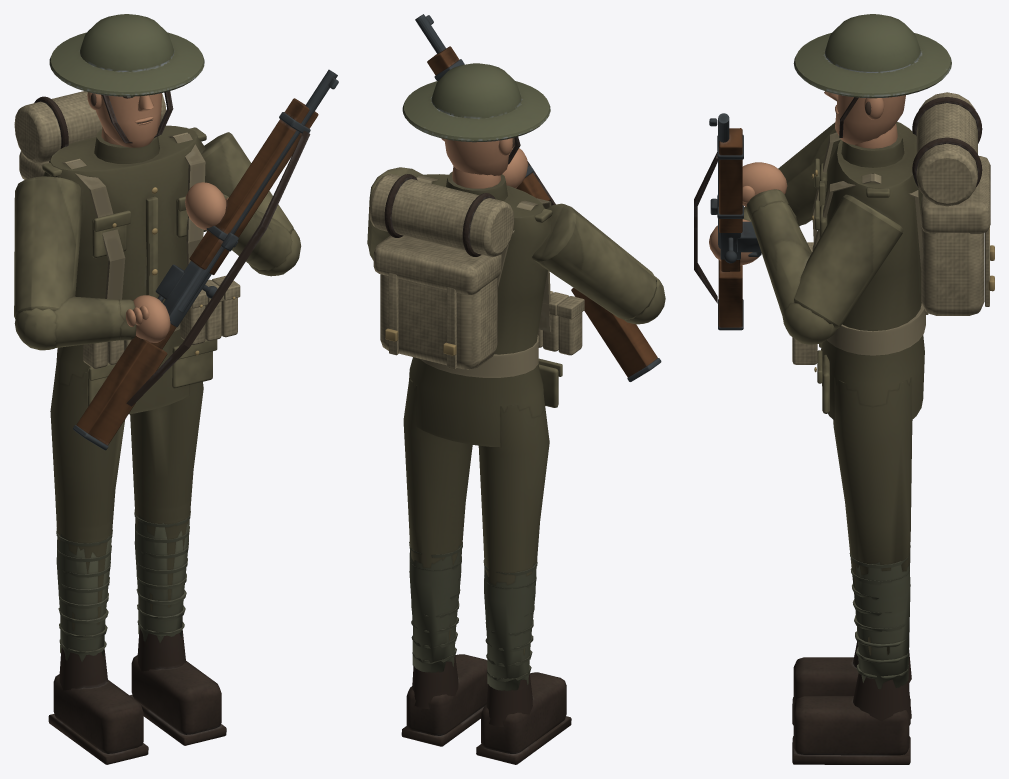
3 views of the same model, side by side, from view 1: azimuth 30°, elevation 25°; view 2: azimuth 150°, elevation 25°; view 3: azimuth 270°, elevation 25° (orthographic). The views are drawn at different scales.
Parts seen in each view (by area): view 1: Uniform_tunic, Leg_R, Leg_L, Sleeve_R, Helmet_assembly, Rifle_woodwork, Boot_R, Boot_L, Web_equipment, Sleeve_L, Pack_assembly, Rifle_metalwork (+4 smaller); view 2: Pack_assembly, Uniform_tunic, Leg_R, Leg_L, Helmet_assembly, Sleeve_R, Boot_R, Boot_L, Web_equipment, Rifle_woodwork, Head_assembly, Rifle_metalwork (+2 smaller); view 3: Leg_L, Uniform_tunic, Pack_assembly, Sleeve_L, Helmet_assembly, Boot_L, Web_equipment, Rifle_woodwork, Head_assembly, Boot_R, Sleeve_R, Rifle_metalwork (+2 smaller).
Part boxes in pixels (x1,y1,x2,y2): Uniform_tunic: [42, 125, 217, 414]; Leg_R: [50, 363, 125, 661]; Leg_L: [130, 382, 203, 642]; Sleeve_R: [14, 176, 136, 350]; Helmet_assembly: [49, 14, 204, 143]; Rifle_woodwork: [76, 98, 318, 445]; Boot_R: [48, 647, 148, 764]; Boot_L: [130, 627, 226, 745]; Web_equipment: [62, 132, 240, 368]; Sleeve_L: [201, 132, 301, 276]; Pack_assembly: [14, 91, 166, 179]; Rifle_metalwork: [73, 69, 338, 450]; Pack_assembly: [369, 174, 514, 369]; Uniform_tunic: [409, 172, 562, 447]; Leg_R: [478, 397, 549, 690]; Leg_L: [403, 379, 472, 672]; Helmet_assembly: [402, 63, 550, 164]; Sleeve_R: [532, 203, 665, 324]; Boot_R: [476, 672, 571, 764]; Boot_L: [401, 654, 487, 746]; Web_equipment: [416, 176, 584, 377]; Rifle_woodwork: [427, 46, 657, 377]; Head_assembly: [441, 138, 514, 188]; Rifle_metalwork: [415, 14, 661, 381]; Leg_L: [833, 377, 912, 689]; Uniform_tunic: [811, 122, 924, 420]; Pack_assembly: [912, 92, 994, 315]; Sleeve_L: [746, 189, 903, 344]; Helmet_assembly: [793, 14, 951, 137]; Boot_L: [792, 673, 911, 764]; Web_equipment: [792, 132, 928, 364]; Rifle_woodwork: [718, 128, 742, 327]; Head_assembly: [824, 91, 905, 148]; Boot_R: [792, 641, 911, 725]; Sleeve_R: [743, 122, 840, 226]; Rifle_metalwork: [709, 113, 761, 330].
Bounding box in the file's own units: 0.786 × 1.8 × 0.688.
Materials: 1 (1 with a texture image).
